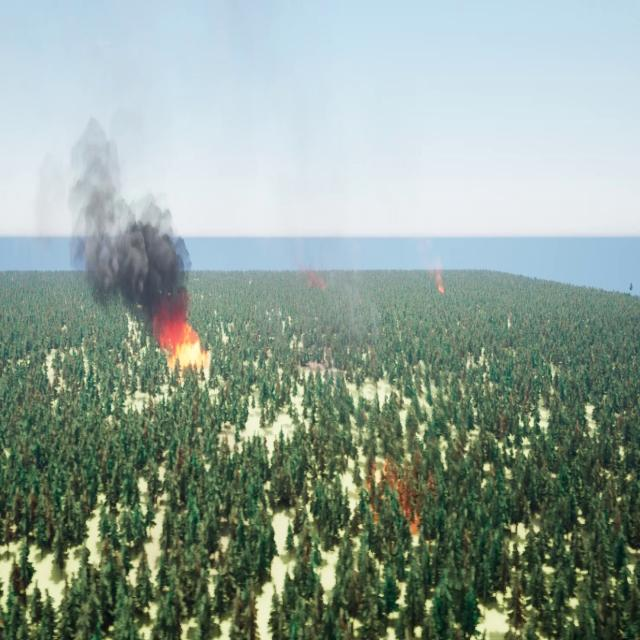fire: (362, 456, 435, 530), (154, 322, 210, 377)
smoke: (67, 115, 195, 334), (424, 243, 443, 290), (306, 267, 332, 293)
